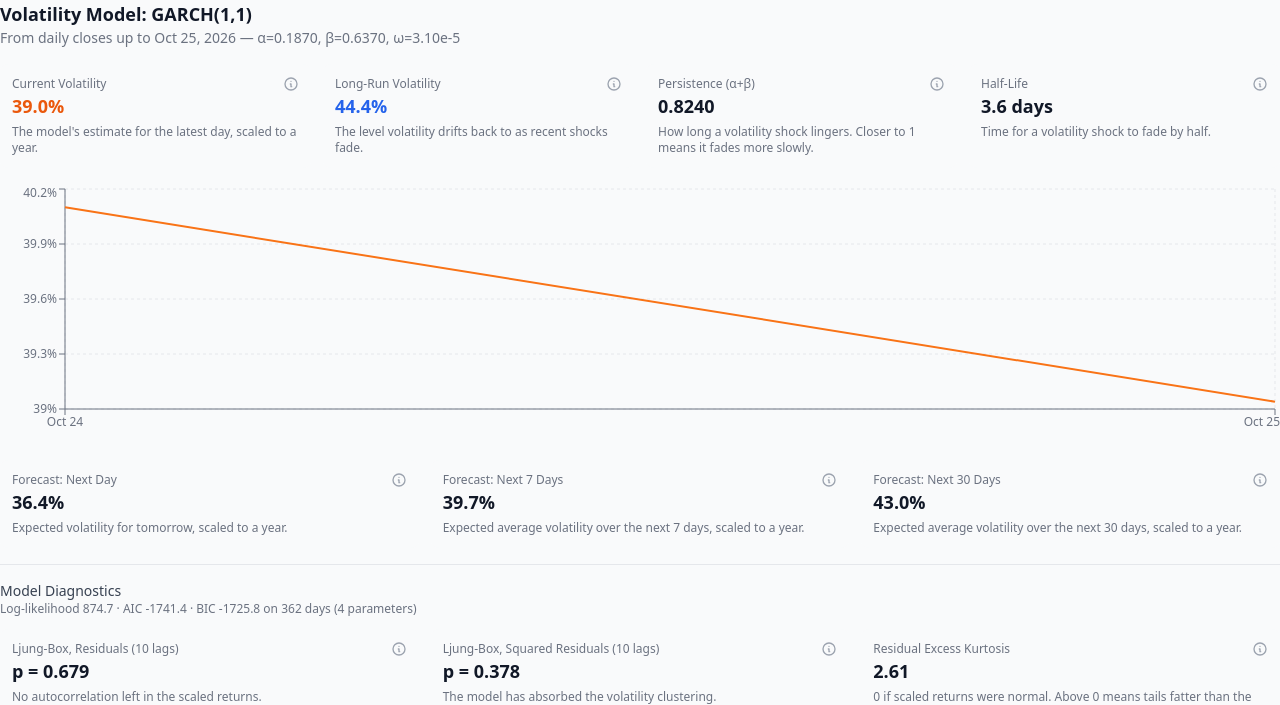
it: GarchPanel › names the data and validation in the model details
This screenshot has width=1280, height=705.
Click the button named "About Half-Life". click: (1260,84)
box: [1252,76,1268,92]
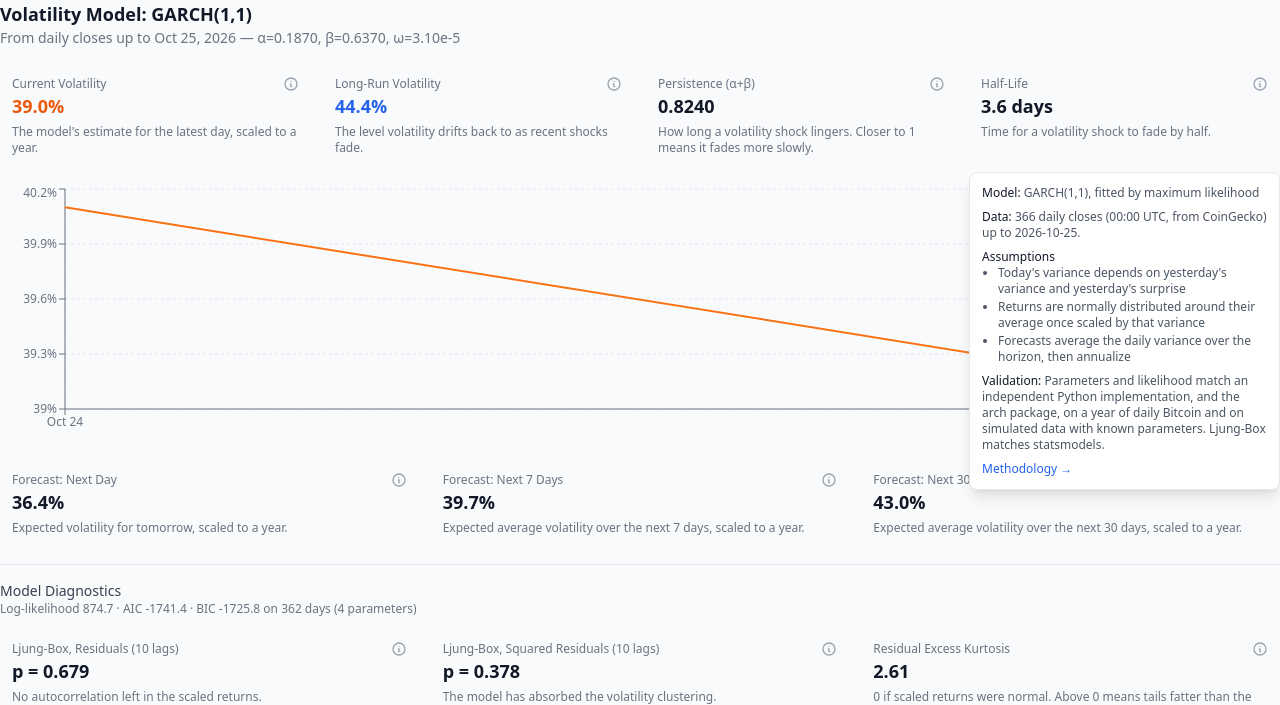
Check: the dialog shows "366 daily closes (00:00 UTC, from CoinGecko) up to 2026-10-25.", box [982,208,1266,241]
Check: the dialog shows "Ljung-Box matches statsmodels", box [982,372,1266,453]
